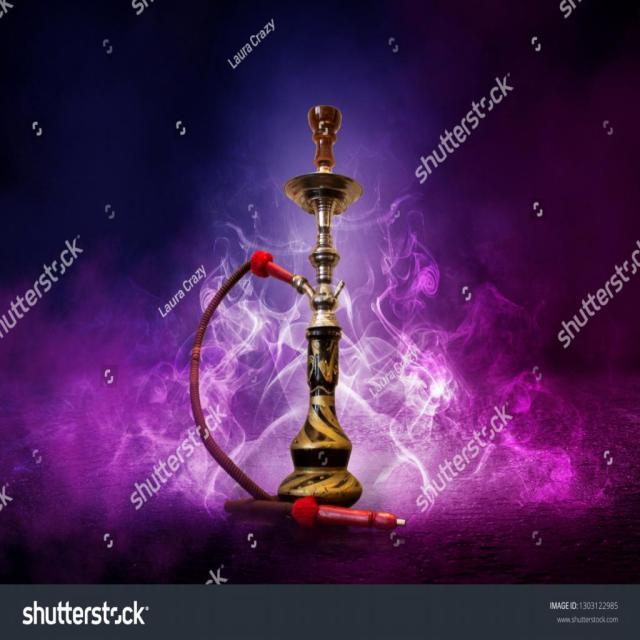smoking: (155, 101, 407, 554)
